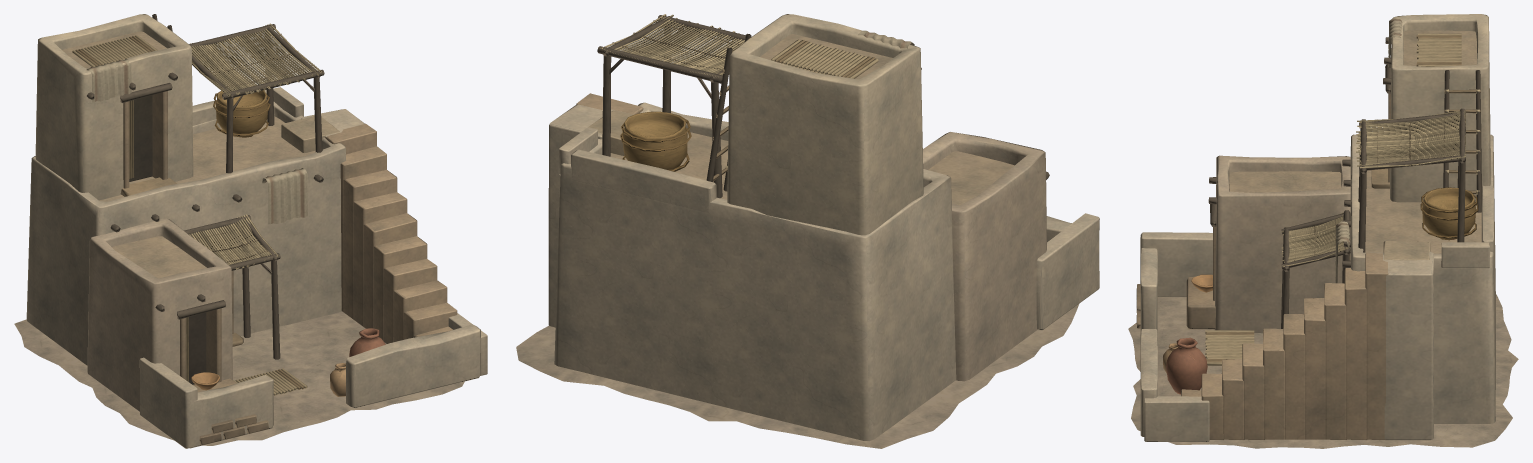
Rendered from house-3.glb.
The picture shows the model from 3 angles, left to right: view 1: azimuth 30°, elevation 25°; view 2: azimuth 150°, elevation 25°; view 3: azimuth 270°, elevation 25°; orthographic projection. The views are drawn at different scales.
Parts seen in each view (by area): view 1: Courtyard house III; view 2: Courtyard house III; view 3: Courtyard house III.
Boxes of the visible parts, <box> form: Courtyard house III: <box>14,14,487,448</box>; Courtyard house III: <box>516,14,1099,448</box>; Courtyard house III: <box>1128,14,1518,448</box>.
Bounding box in the file's own units: 4.97 × 4.16 × 5.06.
6 materials, 6 textured.
